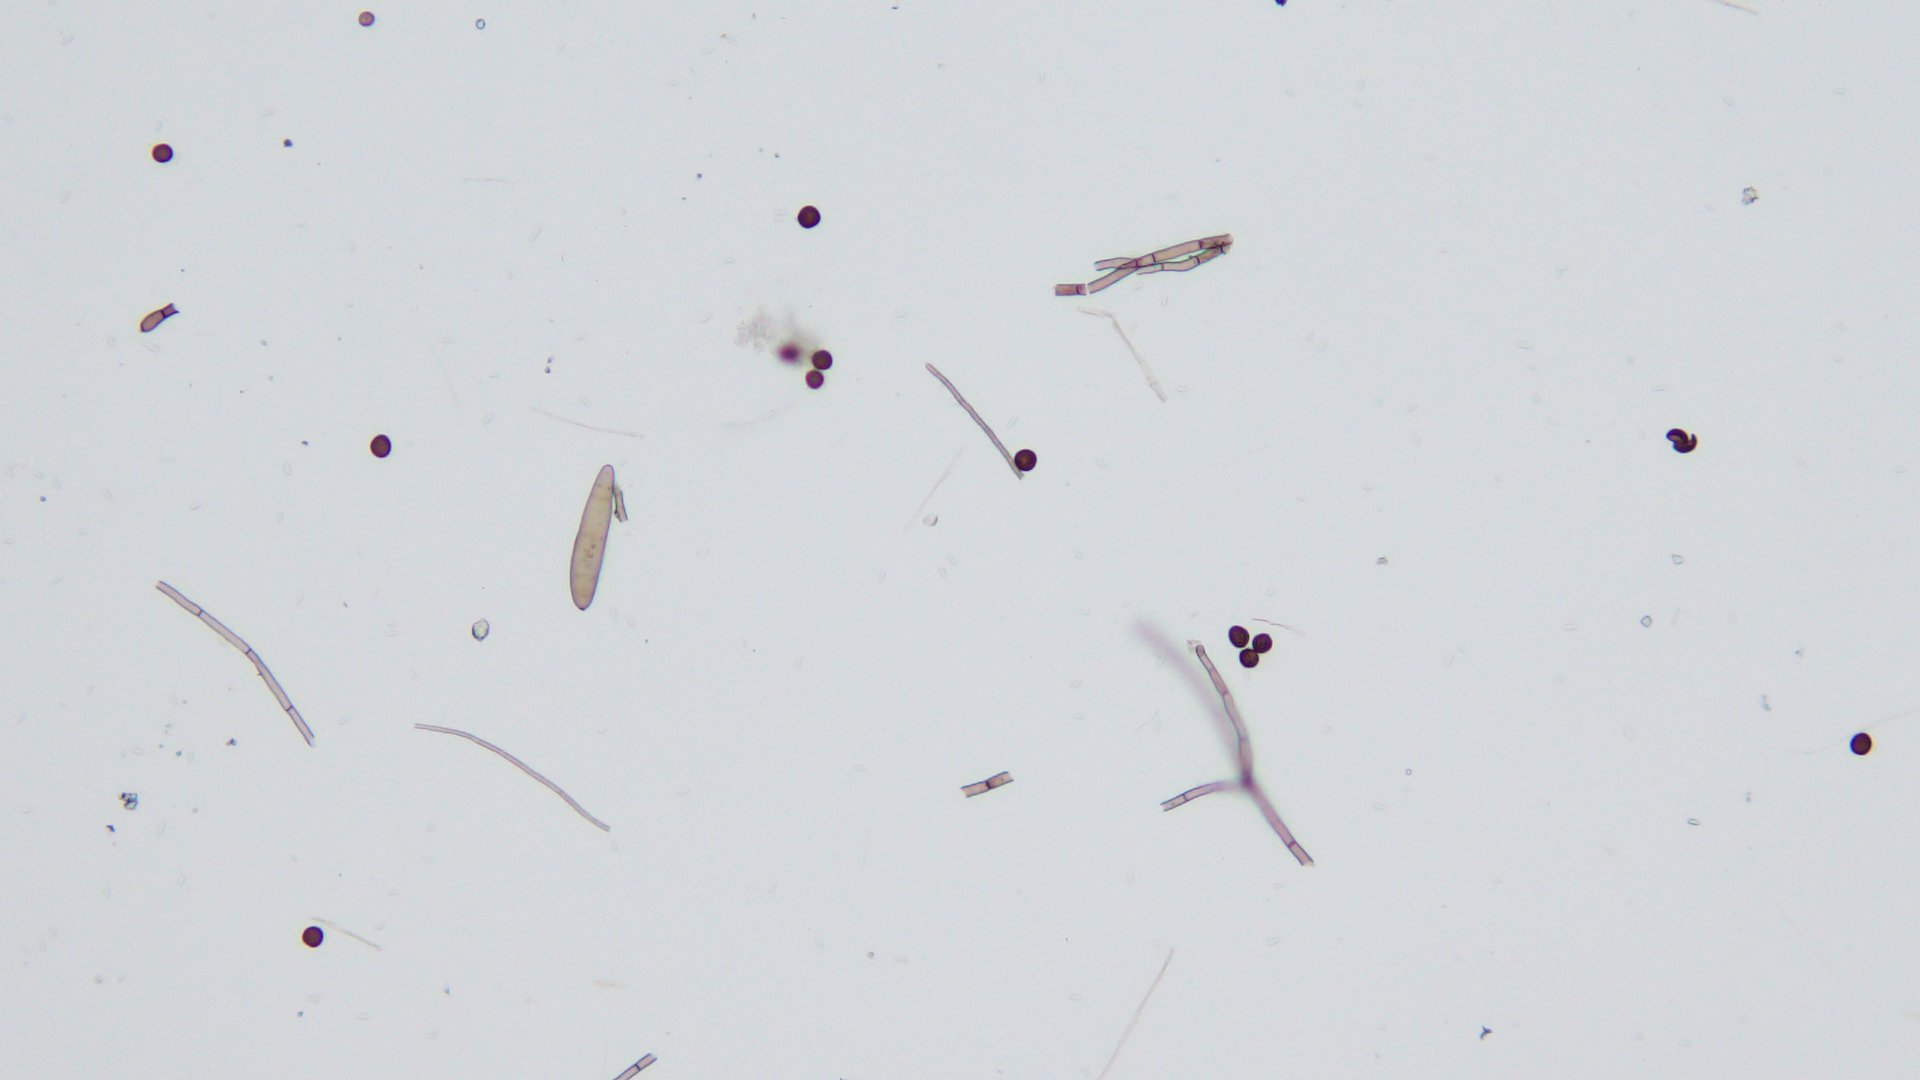dbb_spore: (568, 464, 616, 612)
shs_spore: (796, 203, 822, 229), (1224, 622, 1249, 647), (1847, 732, 1873, 757), (1250, 630, 1274, 654), (368, 435, 392, 458), (301, 926, 324, 948), (1014, 448, 1038, 471), (810, 349, 835, 371), (1238, 647, 1261, 670), (150, 145, 175, 164), (803, 371, 824, 390)
